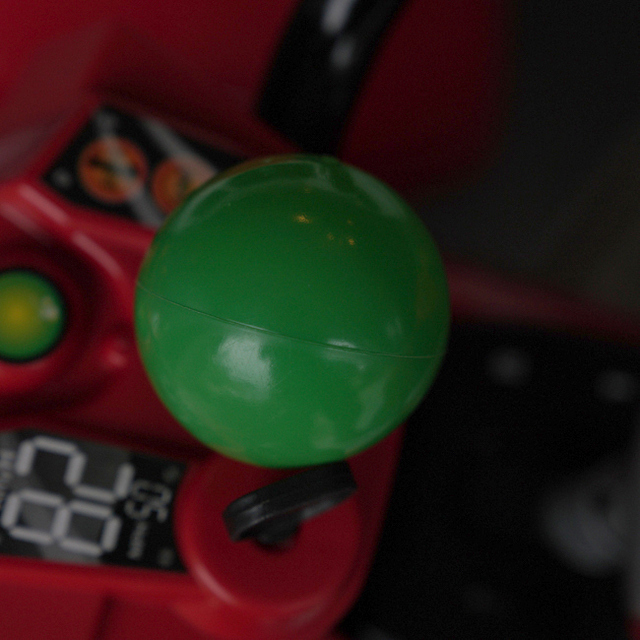Ball: (130, 154, 452, 469)
